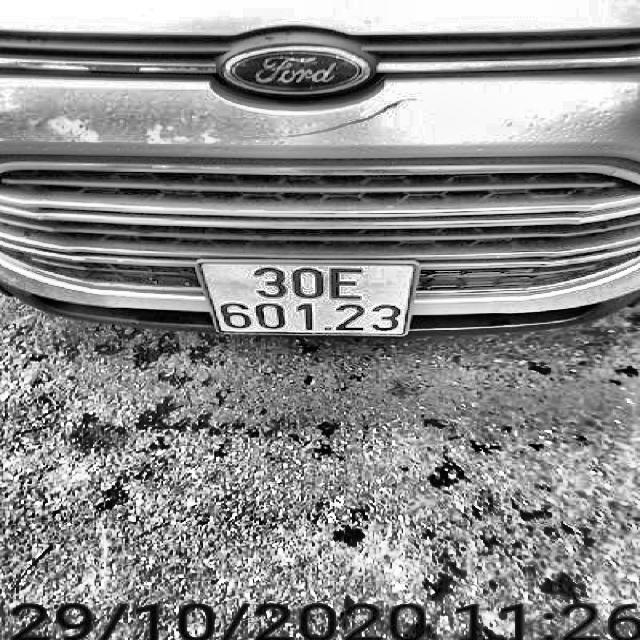plate: (191, 255, 429, 342)
